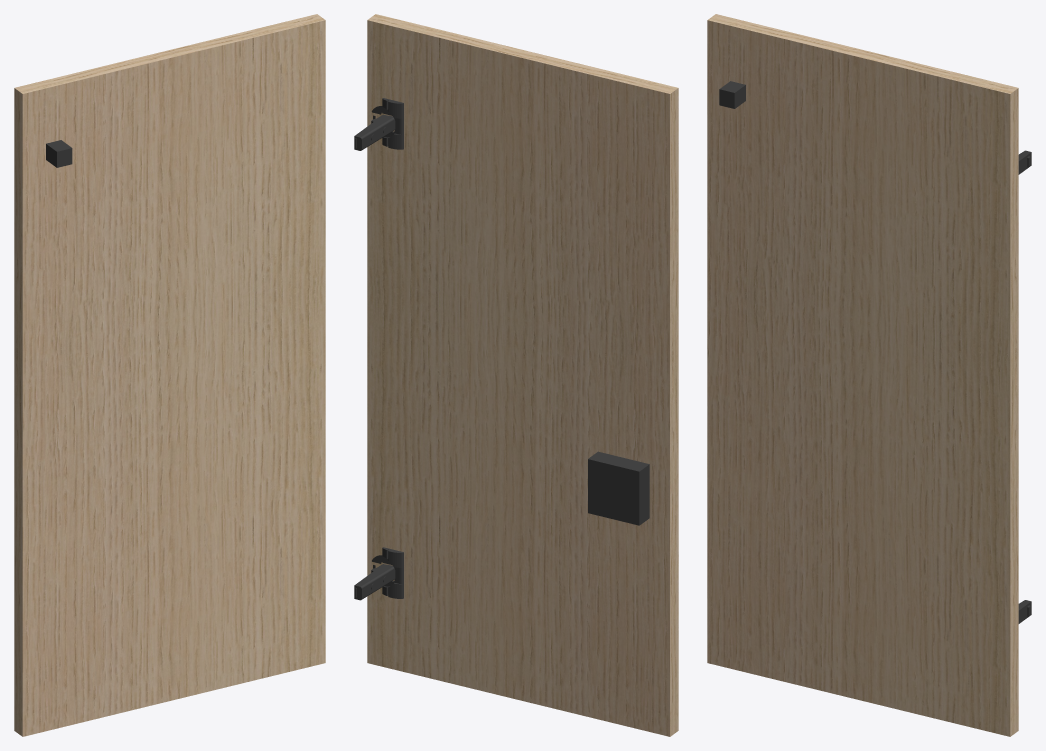
File: Benk_B_dor_hoyre.glb
3 views of the same model, side by side, from view 1: azimuth 30°, elevation 25°; view 2: azimuth 150°, elevation 25°; view 3: azimuth 330°, elevation 25° (orthographic).
Visible parts, largest first — view 1: 2025-284 Vitrineskap; view 2: 2025-284 Vitrineskap, Benk B dør høyre hengsel z758 Blum 71B3590, Benk B dør høyre hengsel z202 Blum 71B3590; view 3: 2025-284 Vitrineskap.
Boxes of the visible parts, x1,y1,x2,y2 form: 2025-284 Vitrineskap: (14, 14, 325, 736); 2025-284 Vitrineskap: (367, 14, 678, 736); Benk B dør høyre hengsel z758 Blum 71B3590: (354, 98, 403, 150); Benk B dør høyre hengsel z202 Blum 71B3590: (354, 547, 403, 600); 2025-284 Vitrineskap: (707, 14, 1018, 736).
Size of the model in its own units: 393 by 797 by 112.
Materials: 2 (1 with a texture image).
